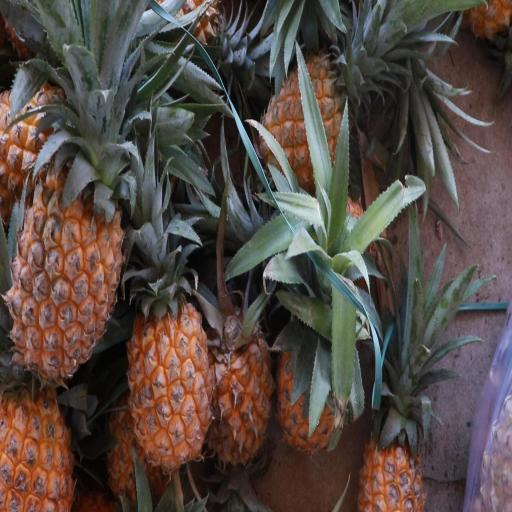Pineapple - v8 v1: (4, 146, 126, 389), (255, 44, 363, 217), (124, 289, 214, 472), (208, 292, 276, 476), (276, 298, 349, 465), (0, 366, 83, 512)
